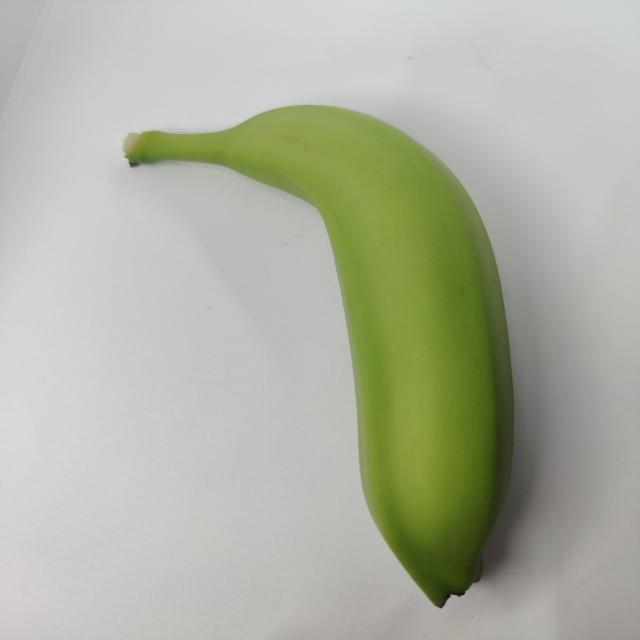raw: (75, 87, 584, 615)
